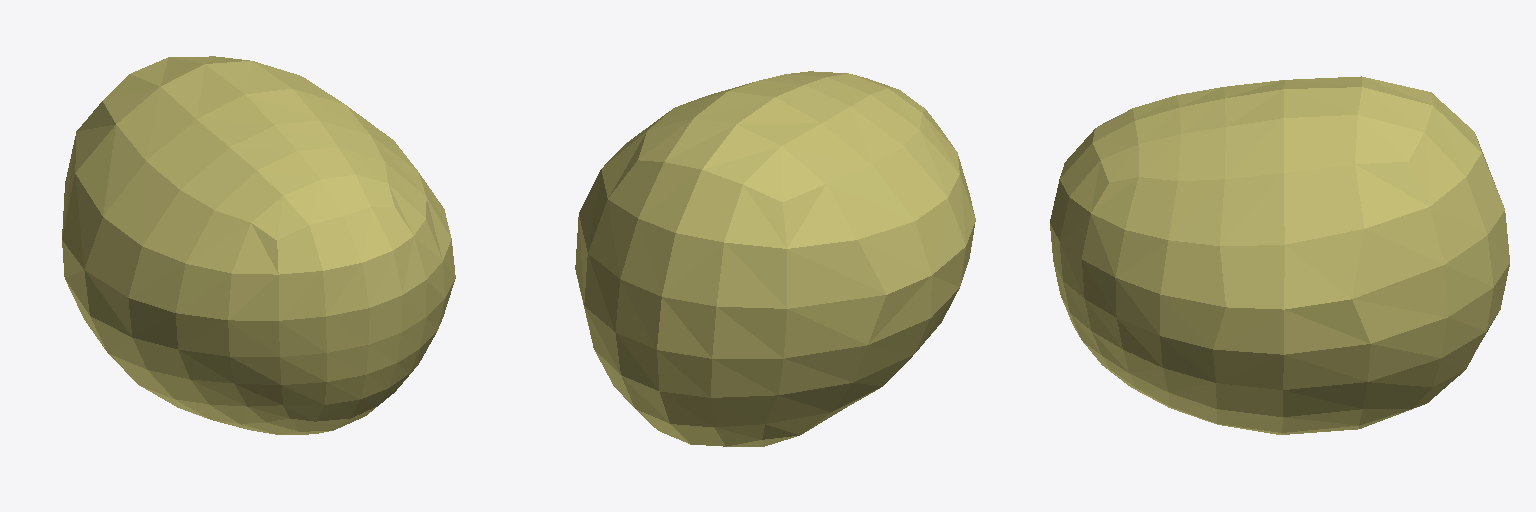
The model's file is Potato_29.obj.
3 views of the same model, side by side, from view 1: azimuth 30°, elevation 25°; view 2: azimuth 150°, elevation 25°; view 3: azimuth 270°, elevation 25° (orthographic).
Size of the model in its own units: 0.111 by 0.1038 by 0.1319.